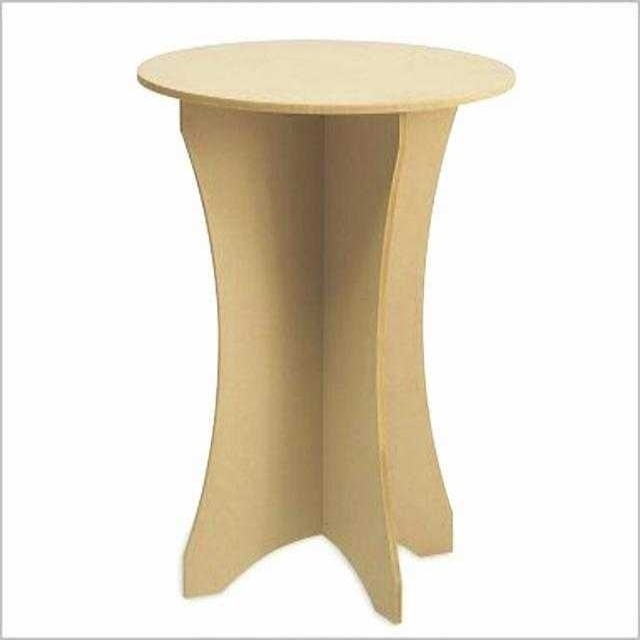obstacle: (138, 41, 513, 621)
